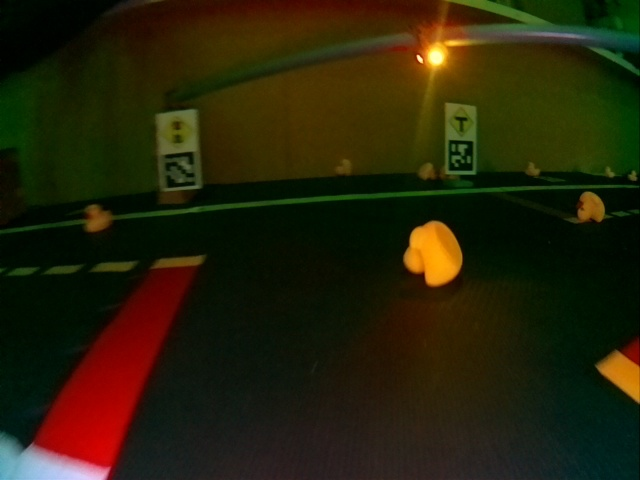Duckie: (404, 221, 460, 286), (84, 204, 113, 233), (577, 192, 604, 222), (418, 164, 435, 180), (336, 161, 352, 175), (525, 163, 537, 175), (605, 167, 614, 177), (629, 171, 637, 179)
Intersection sign: (447, 106, 474, 136)
QR code: (160, 151, 198, 188), (447, 140, 473, 172)
Signal sign: (159, 116, 195, 149)
Traffic light: (414, 23, 446, 71)
